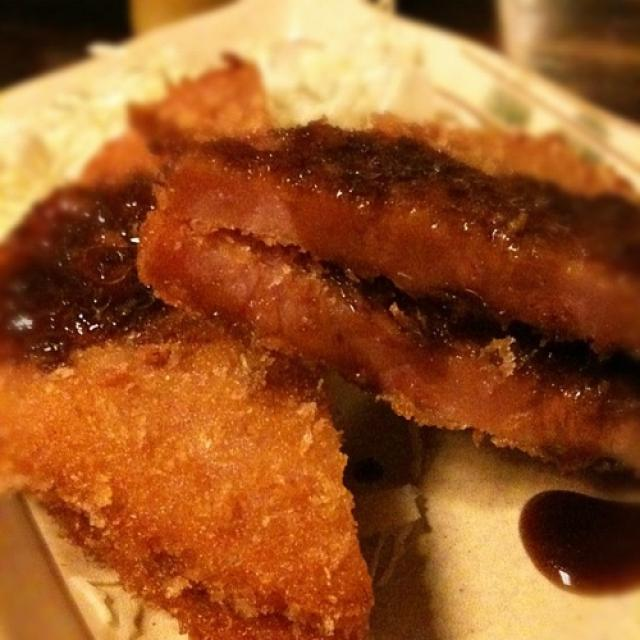炸货点心: (13, 55, 630, 631)
